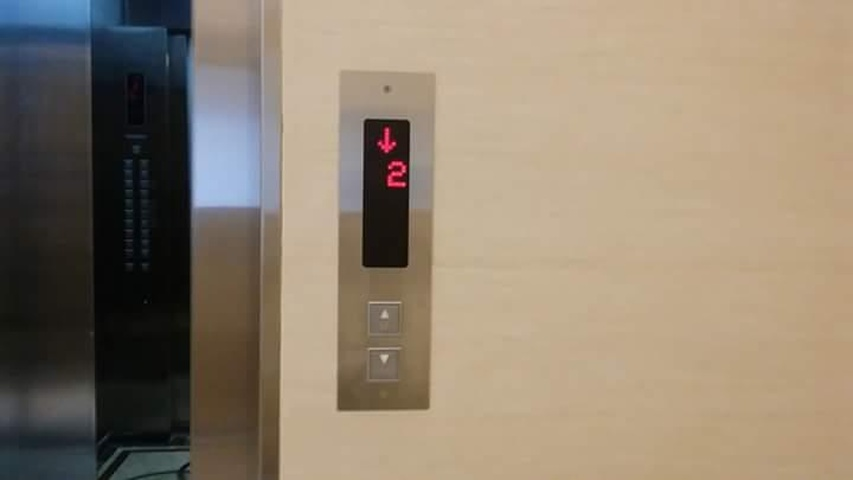down: (367, 346, 402, 382)
led: (359, 115, 410, 270), (125, 74, 146, 125)
up: (367, 301, 402, 336)
